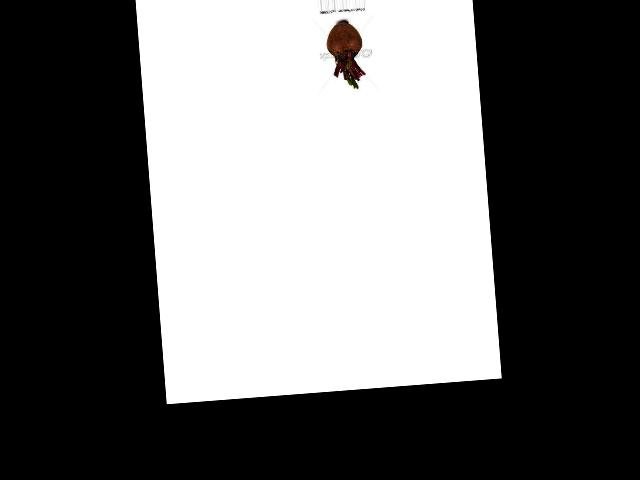beet: (324, 19, 366, 90)
